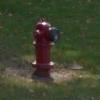Hydrant: (23, 9, 62, 90)
